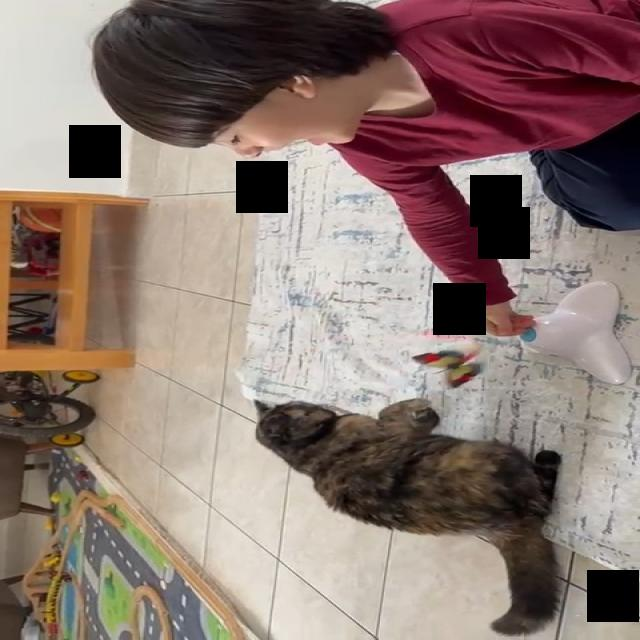authorized: (252, 396, 564, 636)
